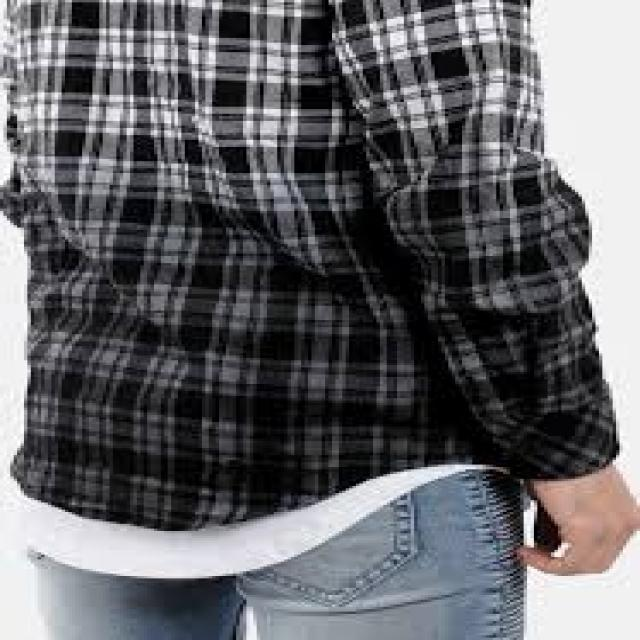plaid: (9, 2, 630, 520)
